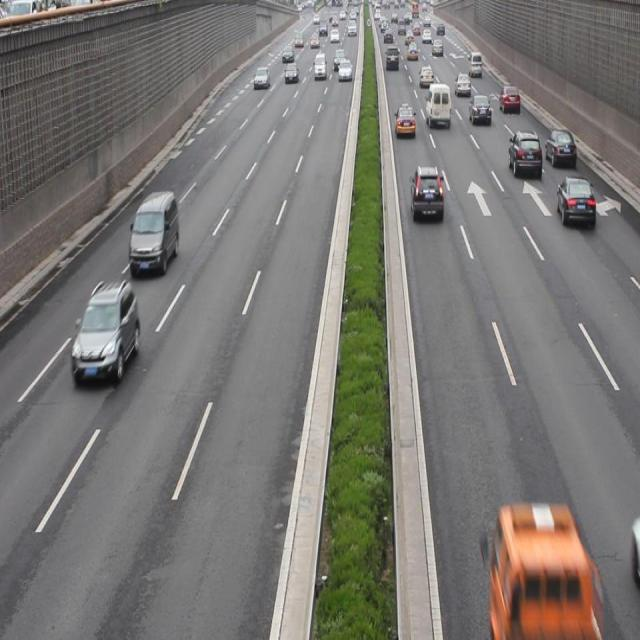bus: (482, 506, 605, 632)
car: (72, 284, 140, 384), (555, 174, 593, 231), (409, 166, 441, 224), (510, 130, 540, 180), (543, 131, 574, 168), (394, 102, 415, 136)
truck: (130, 191, 178, 277)
